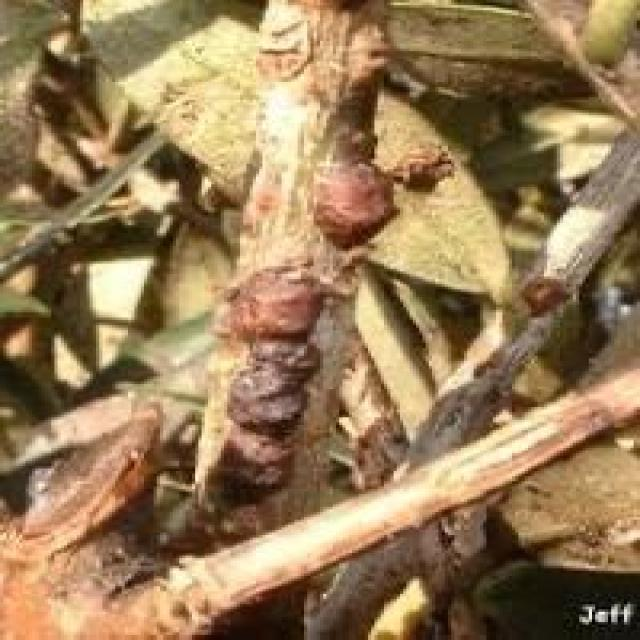Black Scale: (195, 253, 330, 515), (314, 161, 397, 248)
